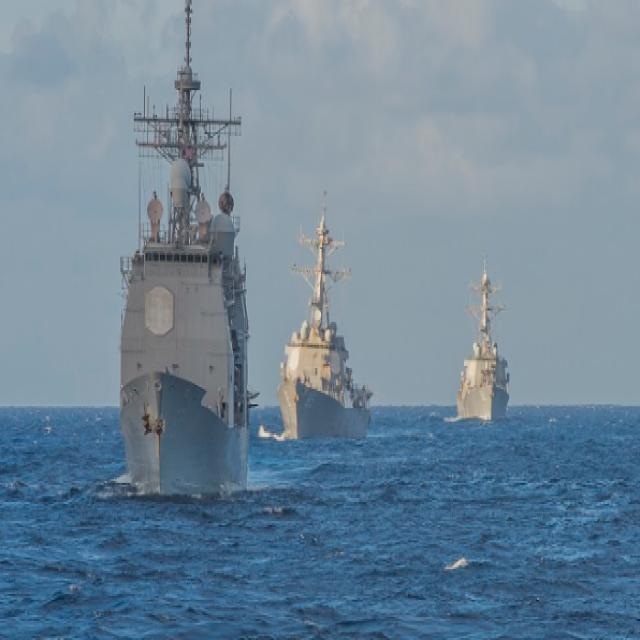navalvessels: (96, 0, 256, 491), (287, 190, 377, 438), (438, 252, 524, 428)
